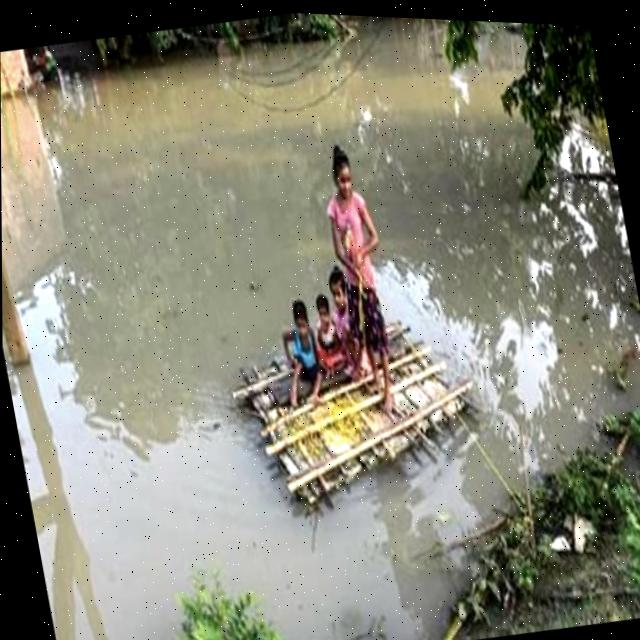civilian: (307, 123, 417, 428), (278, 293, 334, 409), (318, 261, 370, 371), (306, 283, 348, 380)
